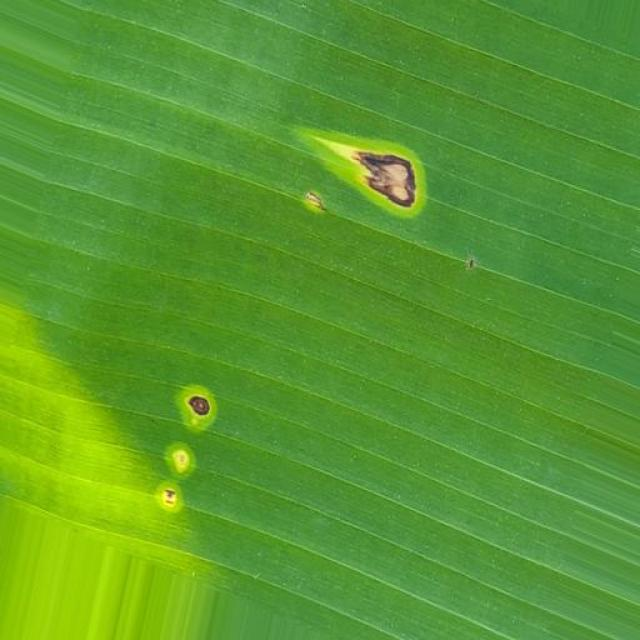Early_rust: (110, 338, 263, 556), (275, 109, 449, 274)
